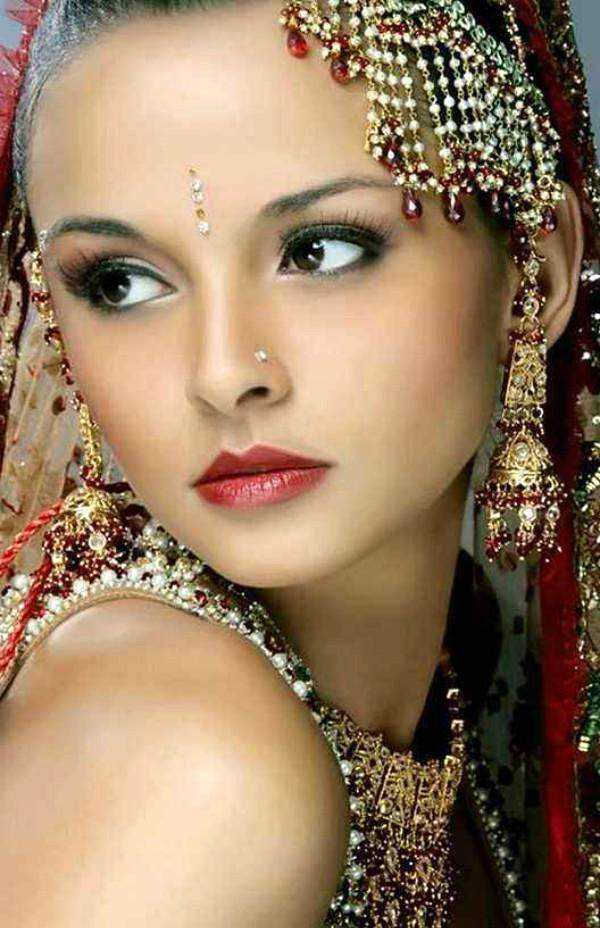person: (15, 15, 562, 704)
